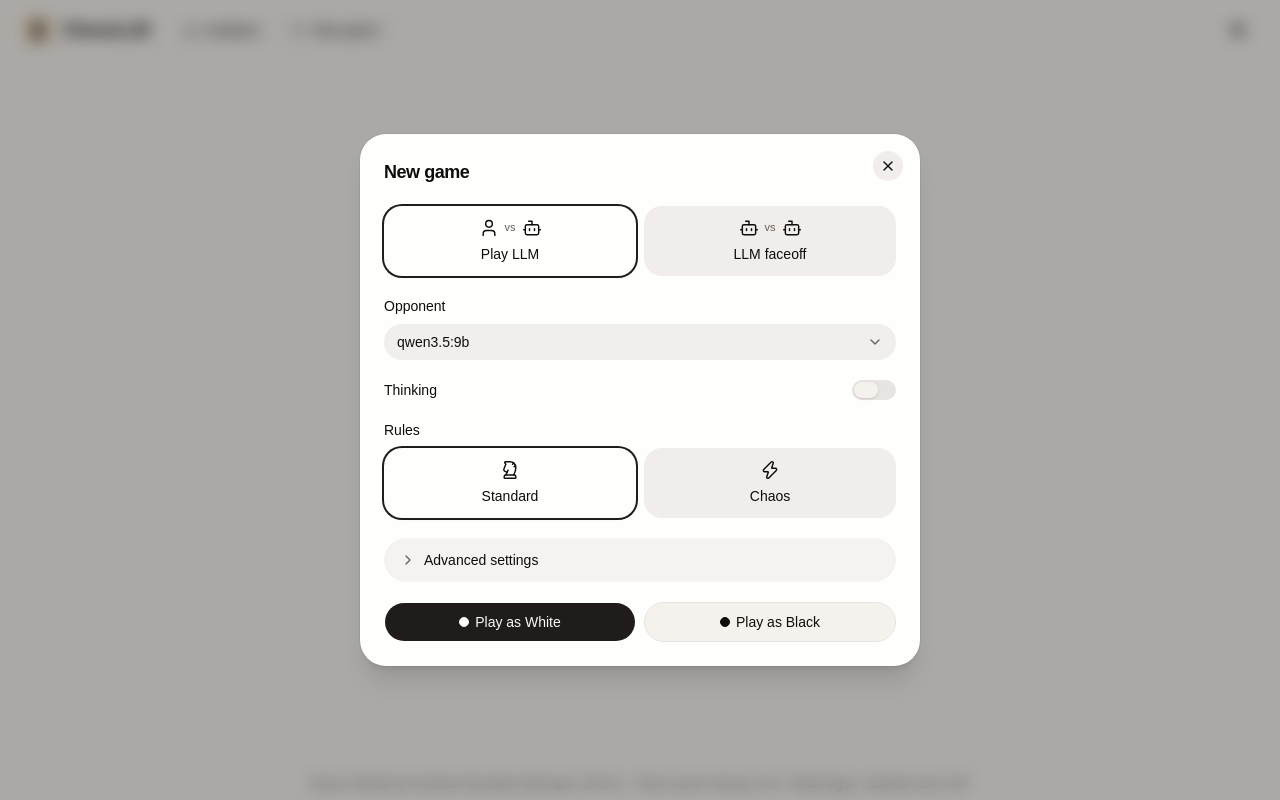
Test: with no current game › closing the sheet leaves the empty board; New game and ⌘K open it again
Check: the dialog "New game" is shown, box [360,134,920,666]
Step 1. Press Escape
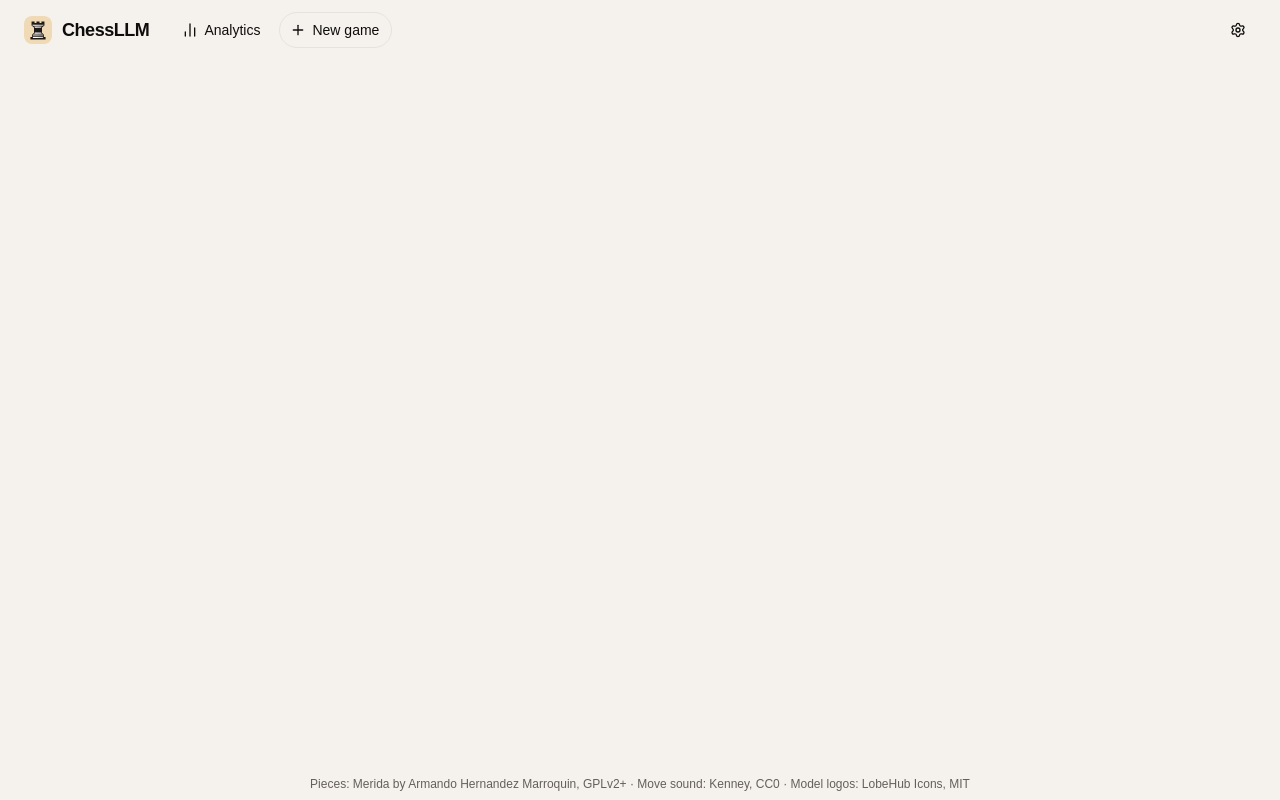
Check: the dialog is gone
Step 2. Click the button "New game" → (336, 30), box [280,12,392,48]
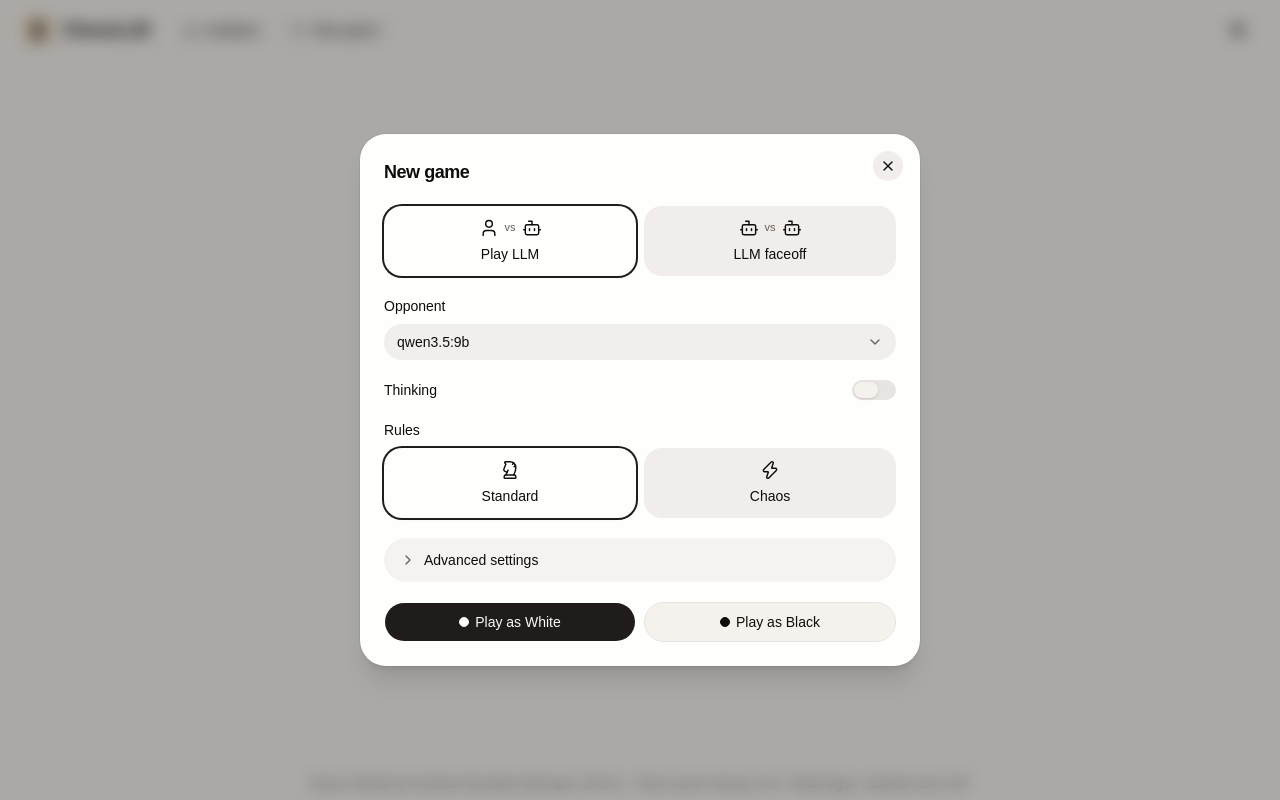
Check: the dialog "New game" is shown, box [360,134,920,666]
Step 3. Press Escape
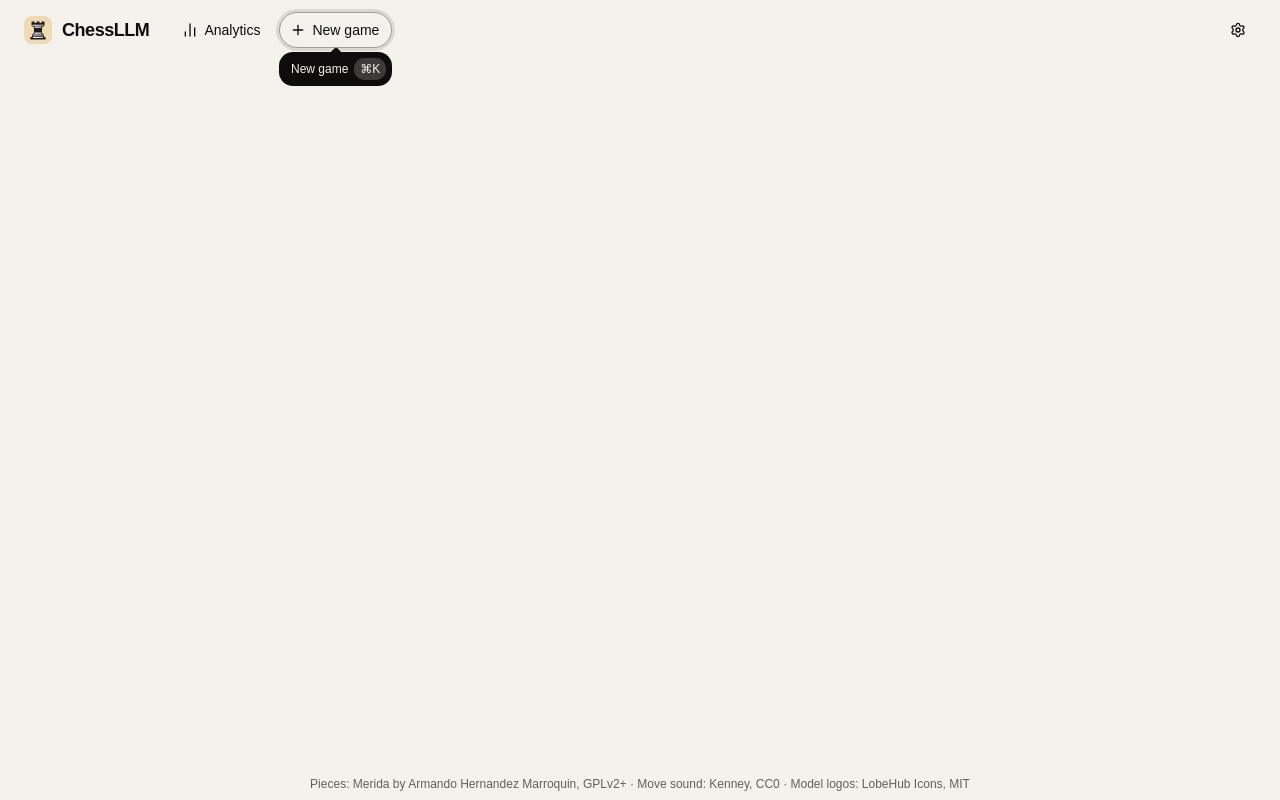
Check: the dialog is gone
Step 4. Type keys "{Meta>}k{/Meta}"
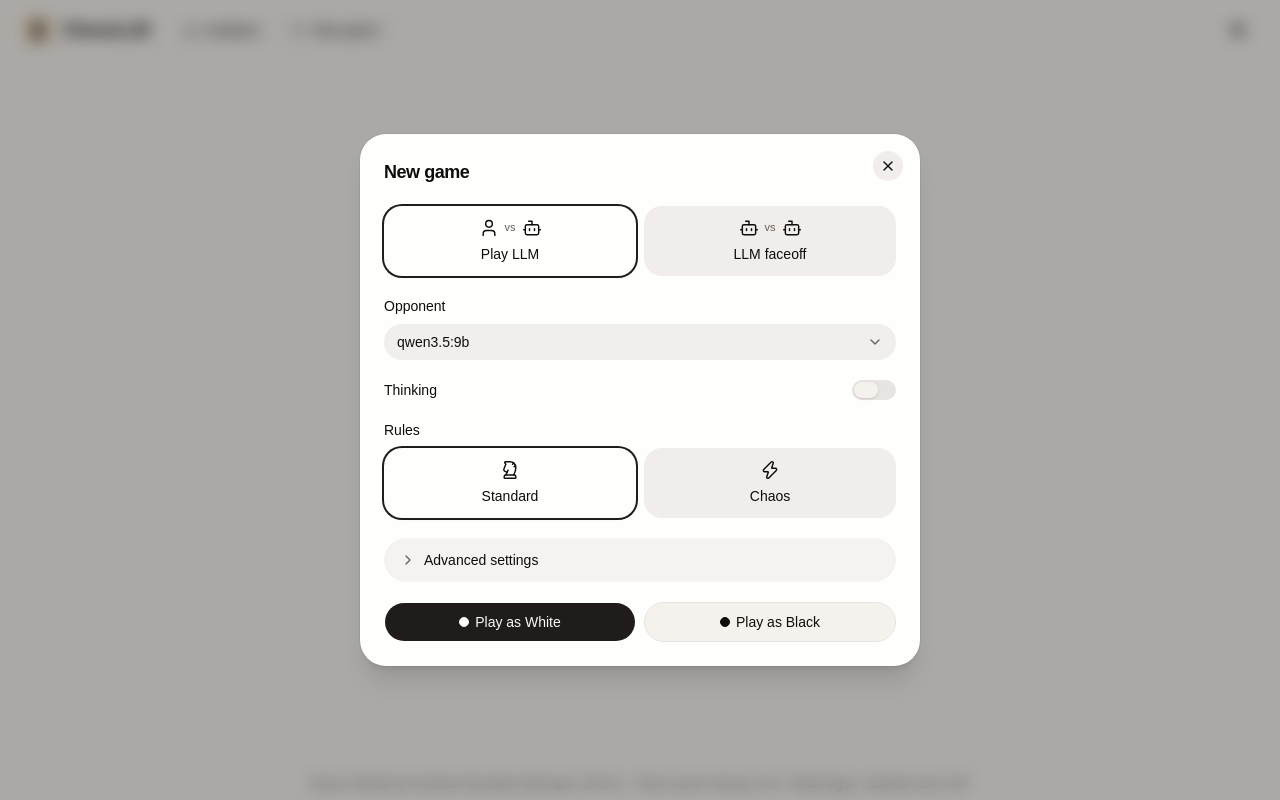
Check: the dialog "New game" is shown, box [360,134,920,666]
